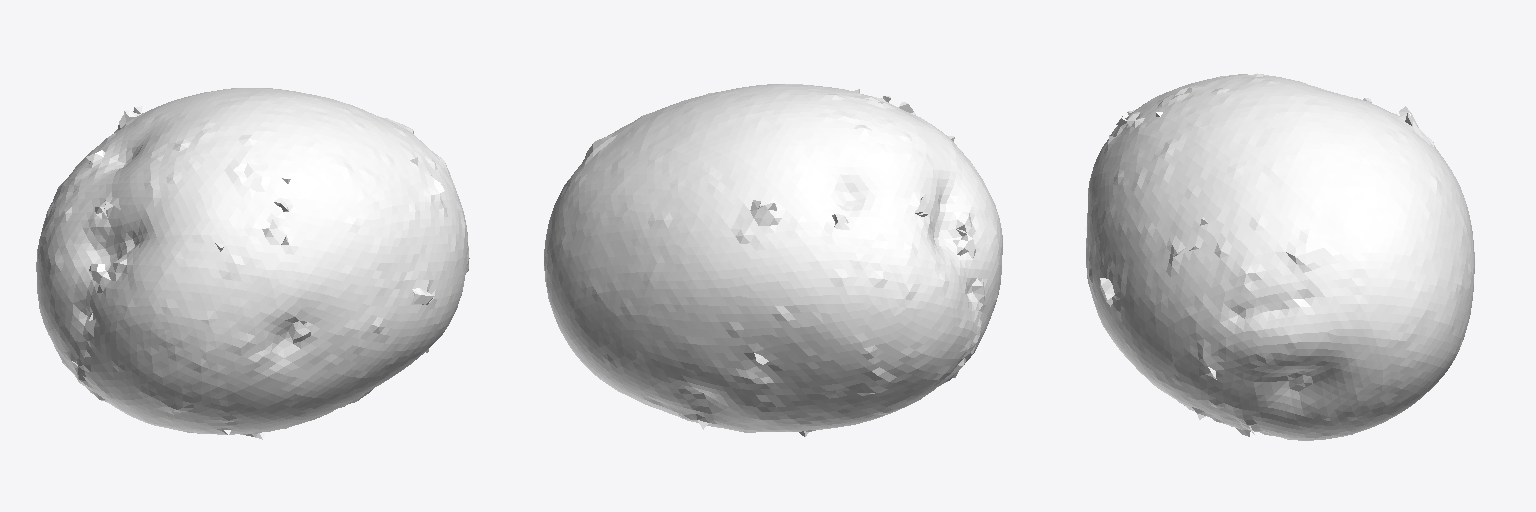
The model's file is Potato_003.obj.
3 views of the same model, side by side, from view 1: azimuth 30°, elevation 25°; view 2: azimuth 150°, elevation 25°; view 3: azimuth 270°, elevation 25° (orthographic).
Visible parts, largest first — view 1: Potato2_lowpoly; view 2: Potato2_lowpoly; view 3: Potato2_lowpoly.
Part boxes in pixels (x1,y1,x2,y2): Potato2_lowpoly: (36,88,469,439); Potato2_lowpoly: (544,84,1002,436); Potato2_lowpoly: (1085,73,1474,440).
Size of the model in its own units: 1.54 by 1.13 by 1.32.